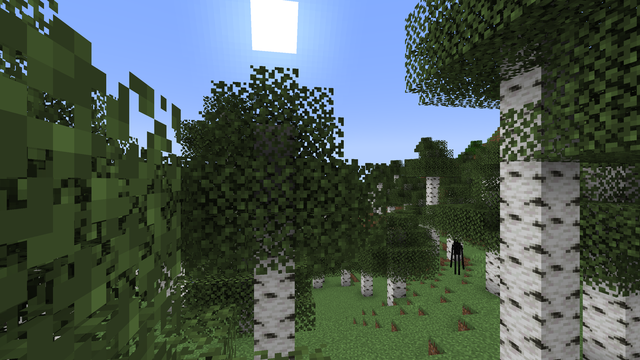endermens: (451, 246, 462, 275)
